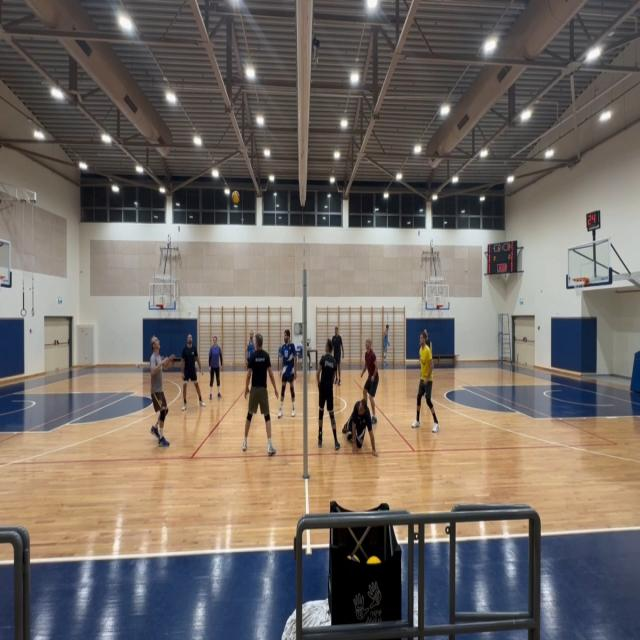volleyball: (232, 190, 240, 203)
